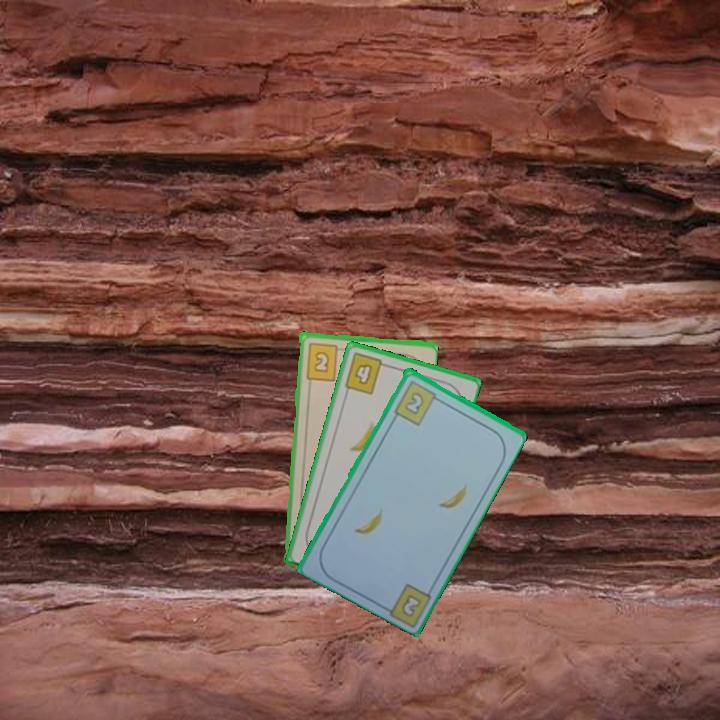2b: (390, 377, 444, 428), (302, 339, 346, 383), (398, 590, 424, 620)
4b: (341, 349, 391, 397)
